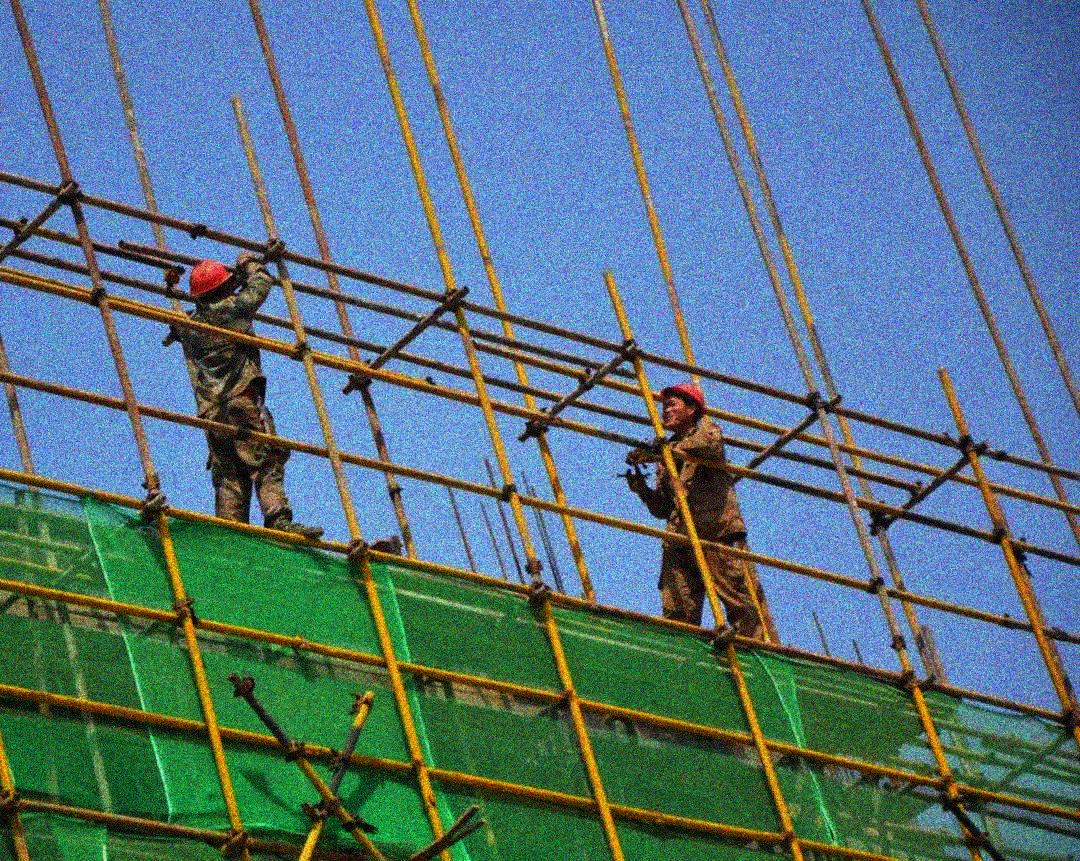helmet: (657, 379, 703, 430), (186, 257, 236, 303)
